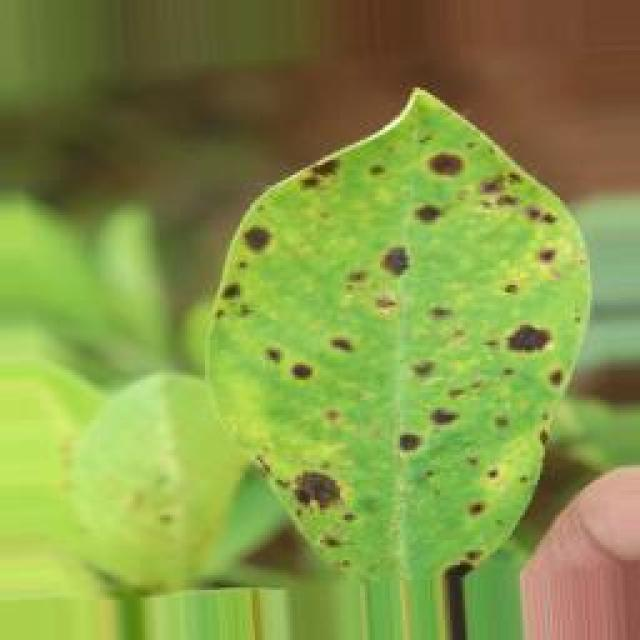Yellowish: (212, 77, 574, 620)
